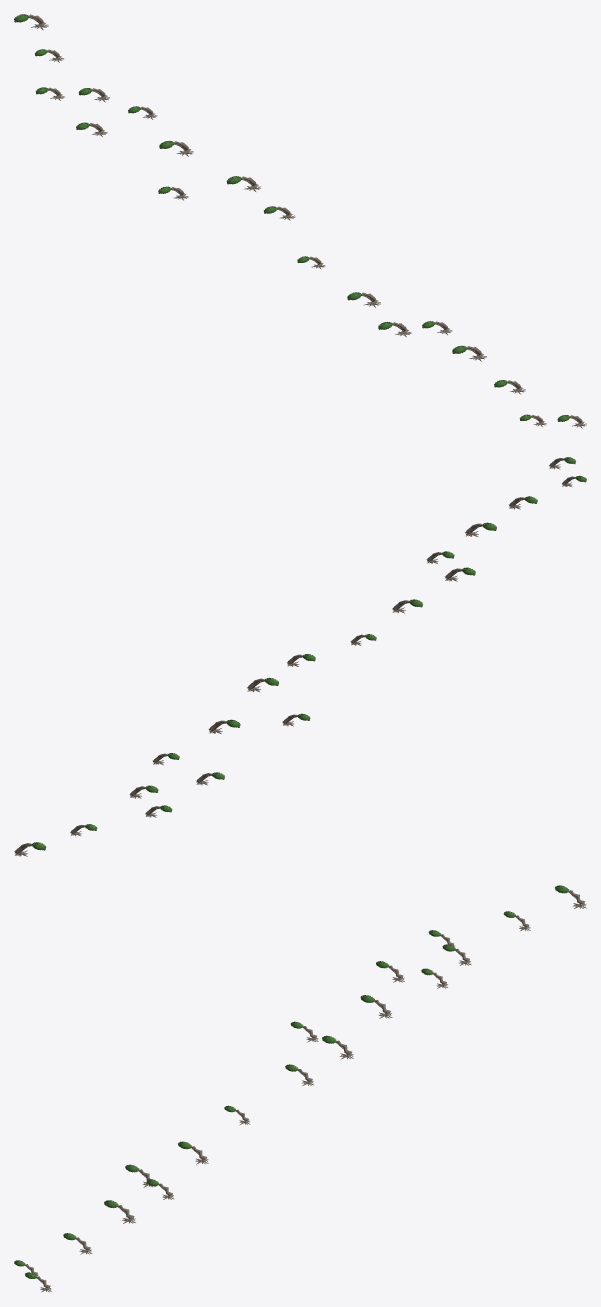
Rendered from eb_fofoti_11.glb.
The picture shows the model from 3 angles, top to bottom: view 1: azimuth 30°, elevation 25°; view 2: azimuth 150°, elevation 25°; view 3: azimuth 330°, elevation 25°; orthographic projection. The views are drawn at different scales.
Visible parts, largest first — view 1: eb_fofoti_11_lod0_divi, eb_fofoti_11_lod1_divi; view 2: eb_fofoti_11_lod0_divi, eb_fofoti_11_lod1_divi; view 3: eb_fofoti_11_lod0_divi, eb_fofoti_11_lod1_divi.
Boxes of the visible parts, x1,y1,x2,y2 form: eb_fofoti_11_lod0_divi: (14,14,586,428); eb_fofoti_11_lod1_divi: (14,15,586,425); eb_fofoti_11_lod0_divi: (14,457,586,856); eb_fofoti_11_lod1_divi: (19,458,586,856); eb_fofoti_11_lod0_divi: (14,885,586,1292); eb_fofoti_11_lod1_divi: (14,889,583,1292).
Size of what is drawn, in the model's own units: 34.18 by 10.54 by 335.
